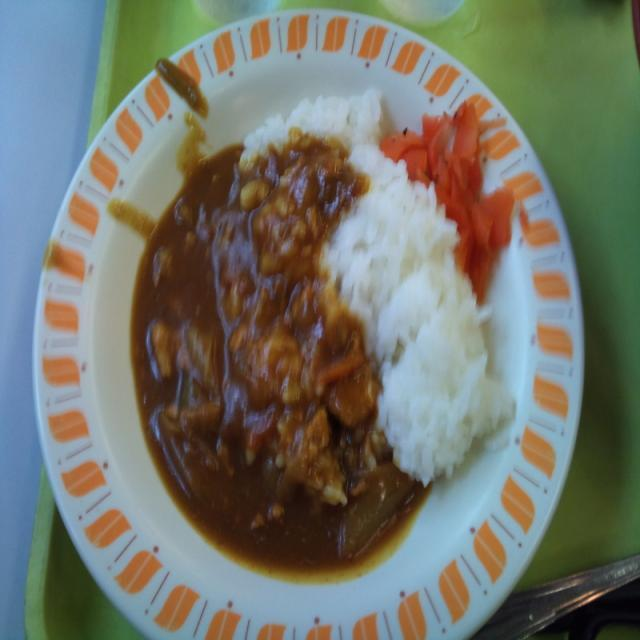Beef Curry: (142, 155, 363, 560)
